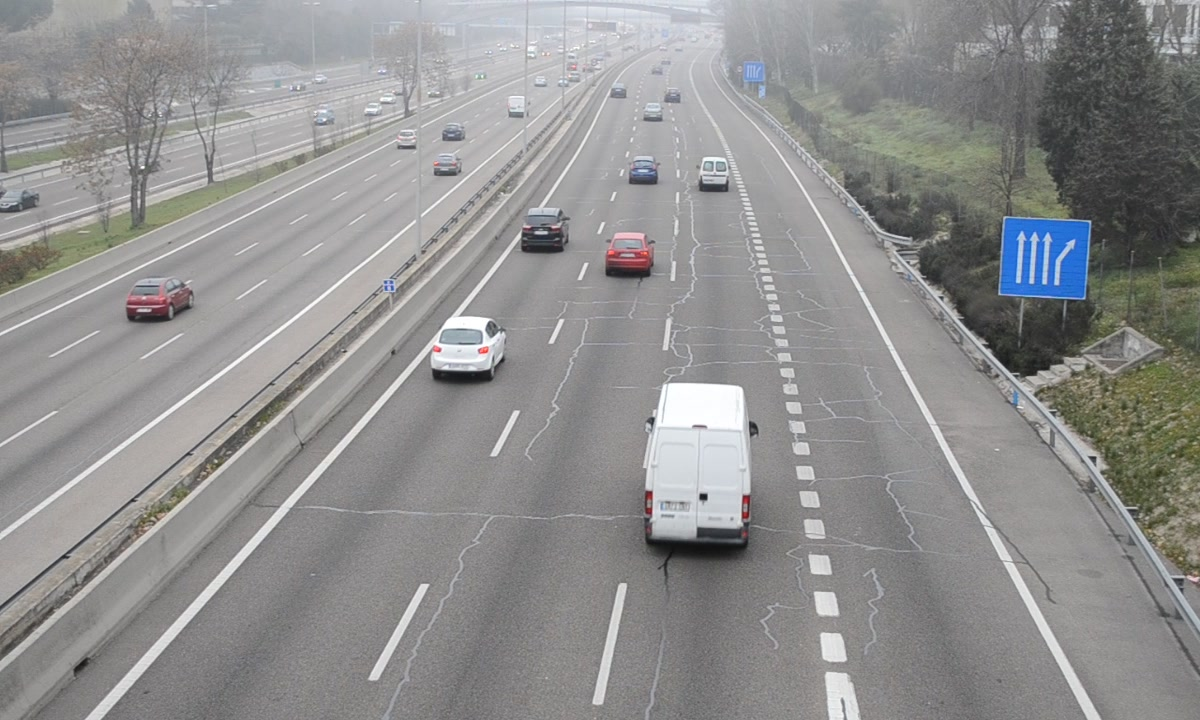car: (431, 315, 504, 374), (519, 208, 569, 251), (606, 232, 653, 273), (628, 156, 659, 183)
van: (645, 384, 752, 552), (698, 156, 731, 193)
